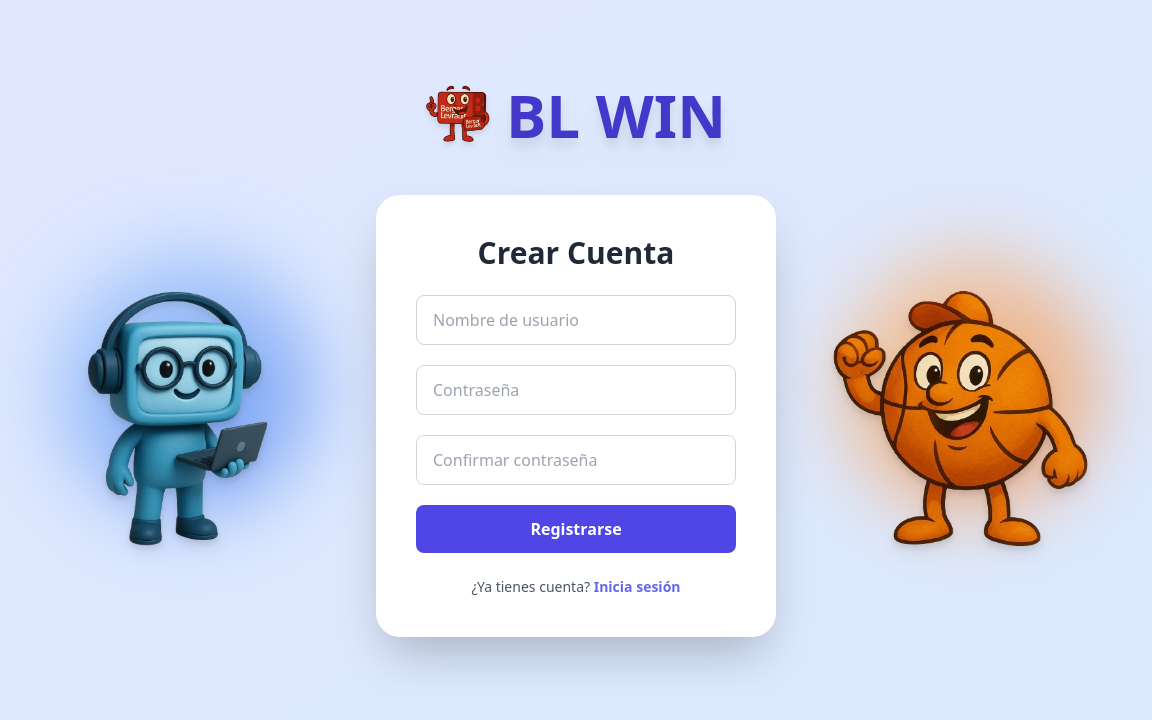
it: Register › muestra error si registerPost lanza excepción
Type "Ana" into the field with placeholder "Nombre de usuario". click: {"x": 576, "y": 320}
box: [416,295,736,345]
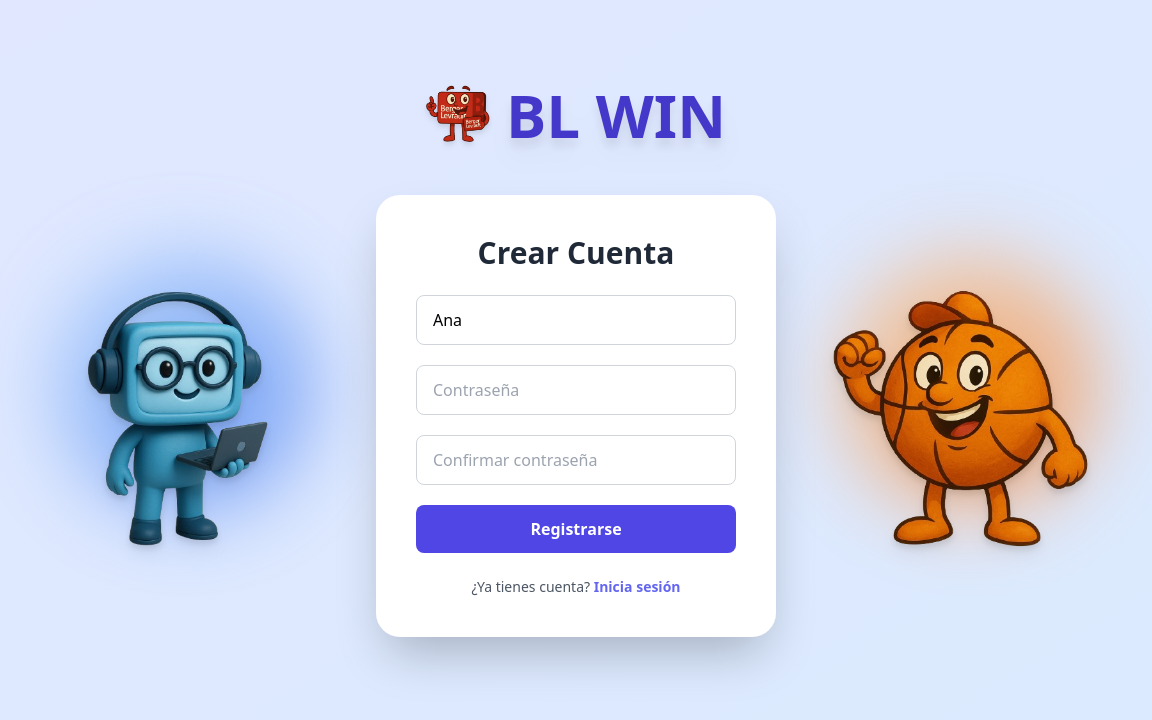
Type "abc123" into the password field with placeholder "Contraseña". click: {"x": 576, "y": 390}
box: [416,365,736,415]
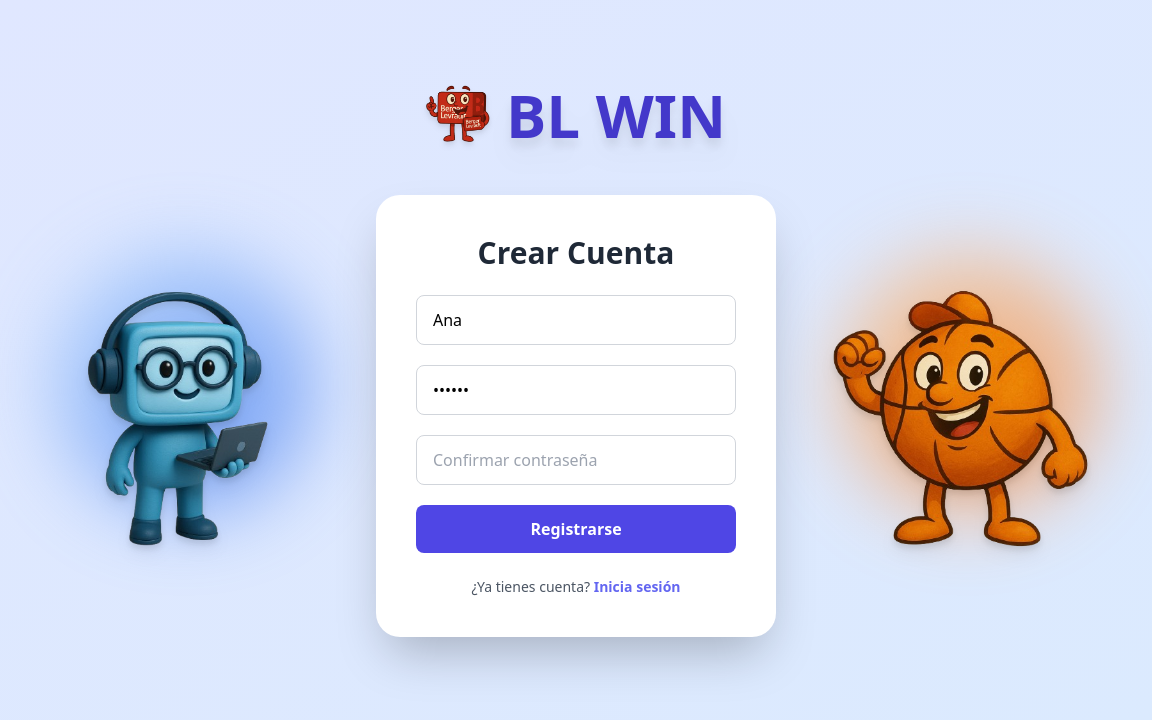
Type "abc123" into the password field with placeholder "Confirmar contraseña". click: {"x": 576, "y": 460}
box: [416,435,736,485]
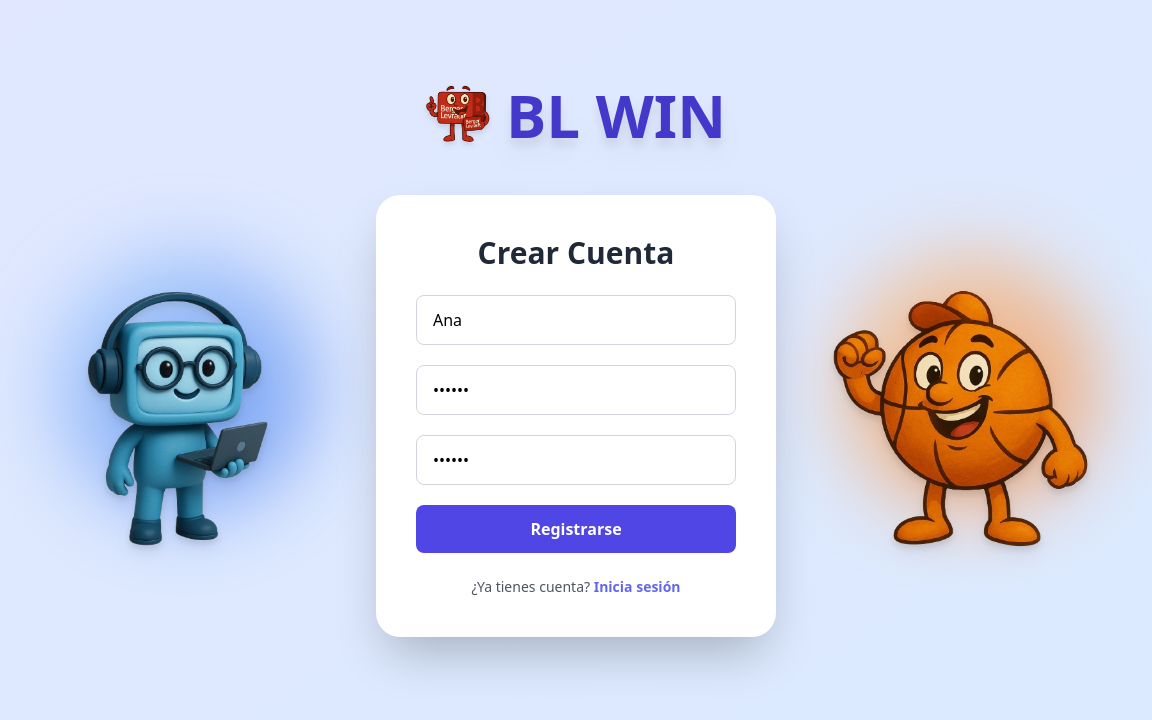
Click the button "Registrarse". click: {"x": 576, "y": 529}
box: [416,505,736,553]
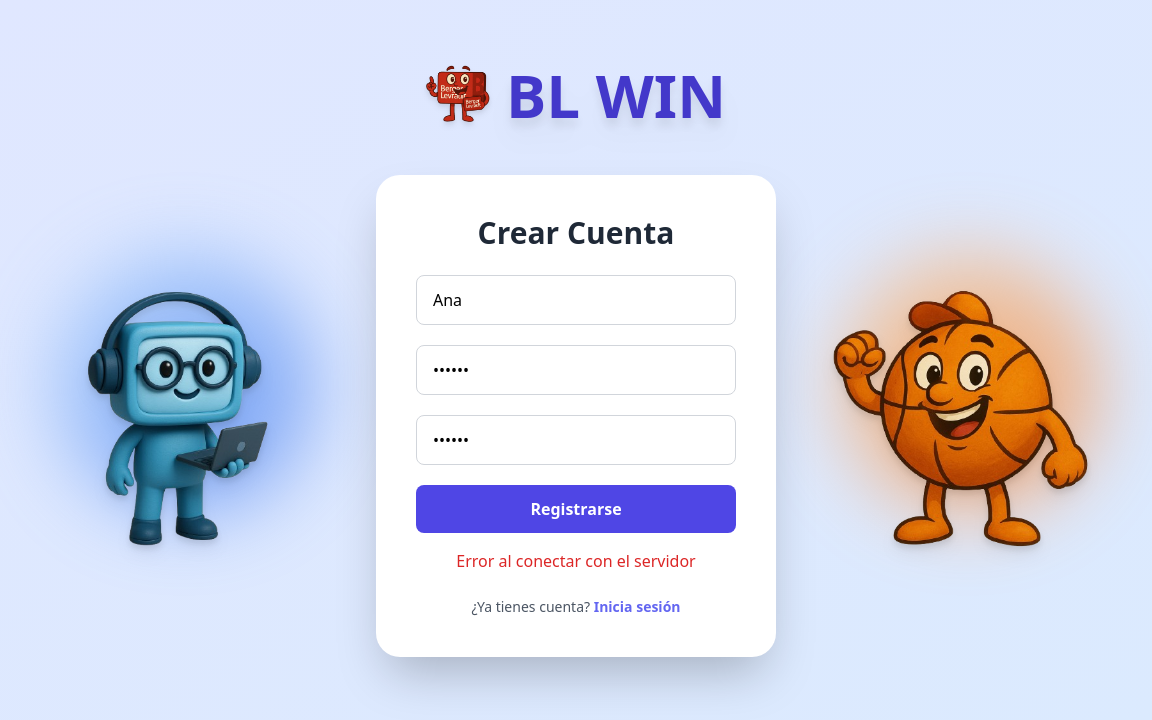
Result: the text "Error al conectar con el servidor" is shown at [456,550,696,572]
